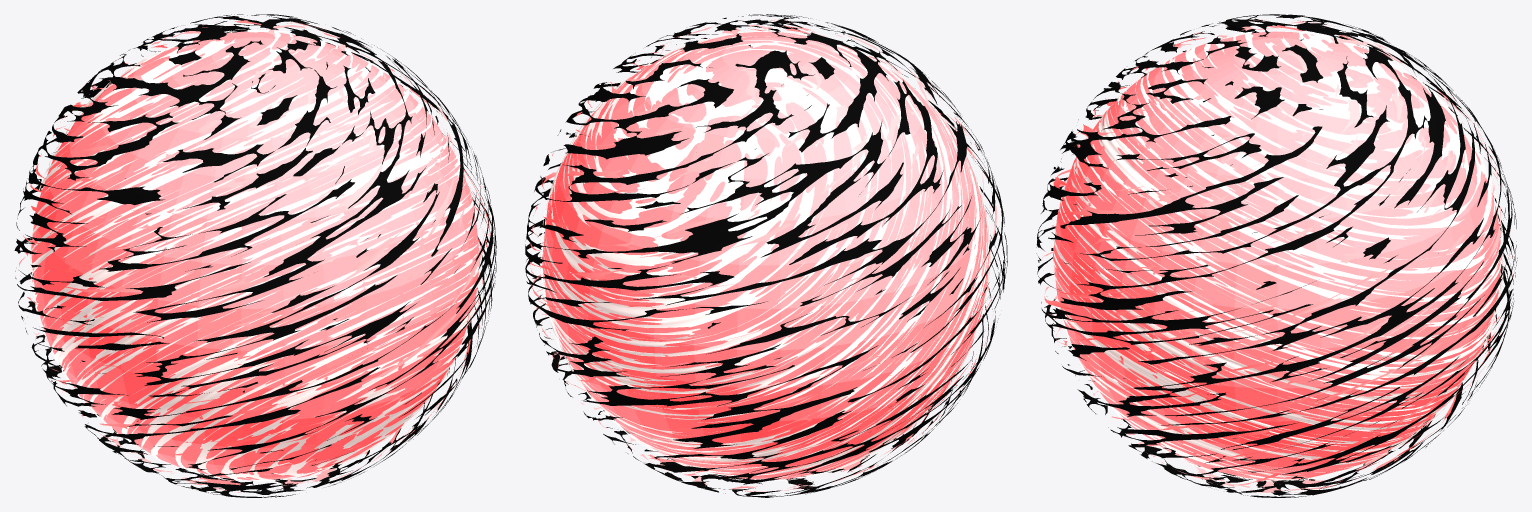
The model's file is new_anime_vfx_red__black_ball.glb.
3 renders of one model, left to right at view 1: azimuth 30°, elevation 25°; view 2: azimuth 150°, elevation 25°; view 3: azimuth 270°, elevation 25°, orthographic.
Parts seen in each view (by area): view 1: Sphere.002_4, Sphere.001_3, Sphere.003_5, Sphere_1; view 2: Sphere.002_4, Sphere.001_3, Sphere.003_5, Sphere_1; view 3: Sphere.002_4, Sphere.001_3, Sphere.003_5, Sphere_1.
Part boxes in pixels (box(x1,y1,x2,y2)): Sphere.002_4: box(31, 31, 479, 480); Sphere.001_3: box(29, 29, 480, 481); Sphere.003_5: box(14, 14, 496, 497); Sphere_1: box(19, 19, 491, 492); Sphere.002_4: box(542, 31, 989, 479); Sphere.001_3: box(540, 31, 991, 481); Sphere.003_5: box(525, 14, 1007, 497); Sphere_1: box(530, 18, 1000, 491); Sphere.002_4: box(1053, 31, 1502, 480); Sphere.001_3: box(1053, 30, 1503, 481); Sphere.003_5: box(1036, 14, 1517, 497); Sphere_1: box(1041, 19, 1513, 492).
Size of the model in its own units: 5.72 by 5.74 by 5.71.
